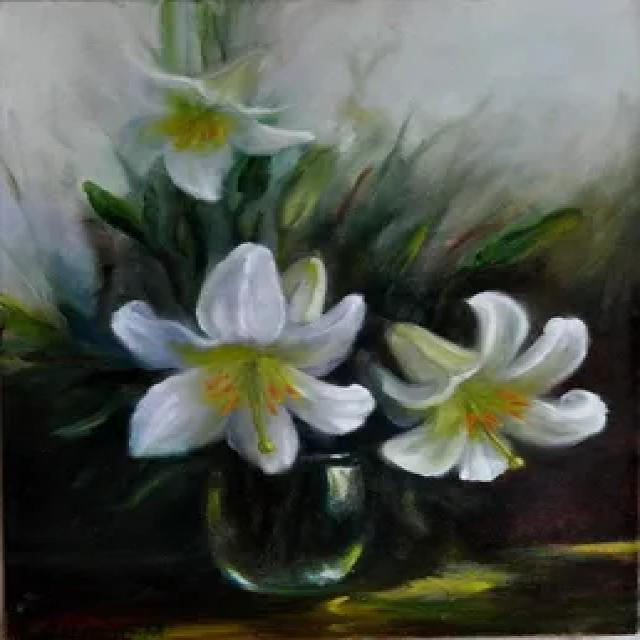lily: (97, 231, 379, 478)
